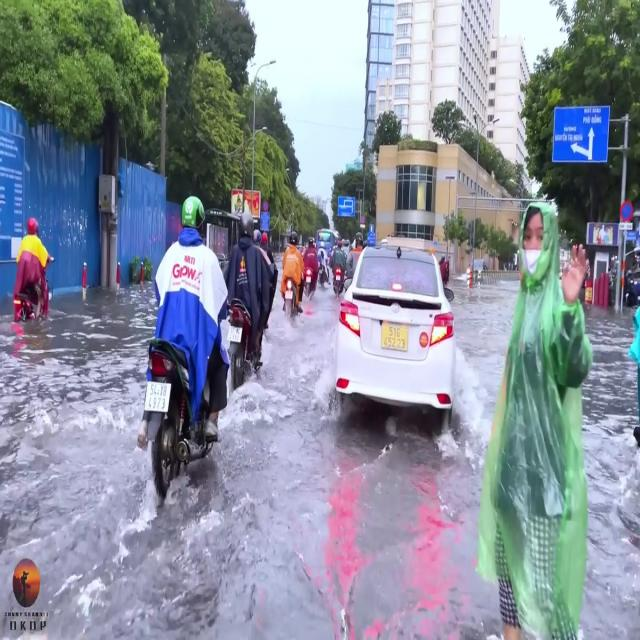bien_trang: (146, 379, 170, 414)
bien_vang: (381, 319, 409, 351)
